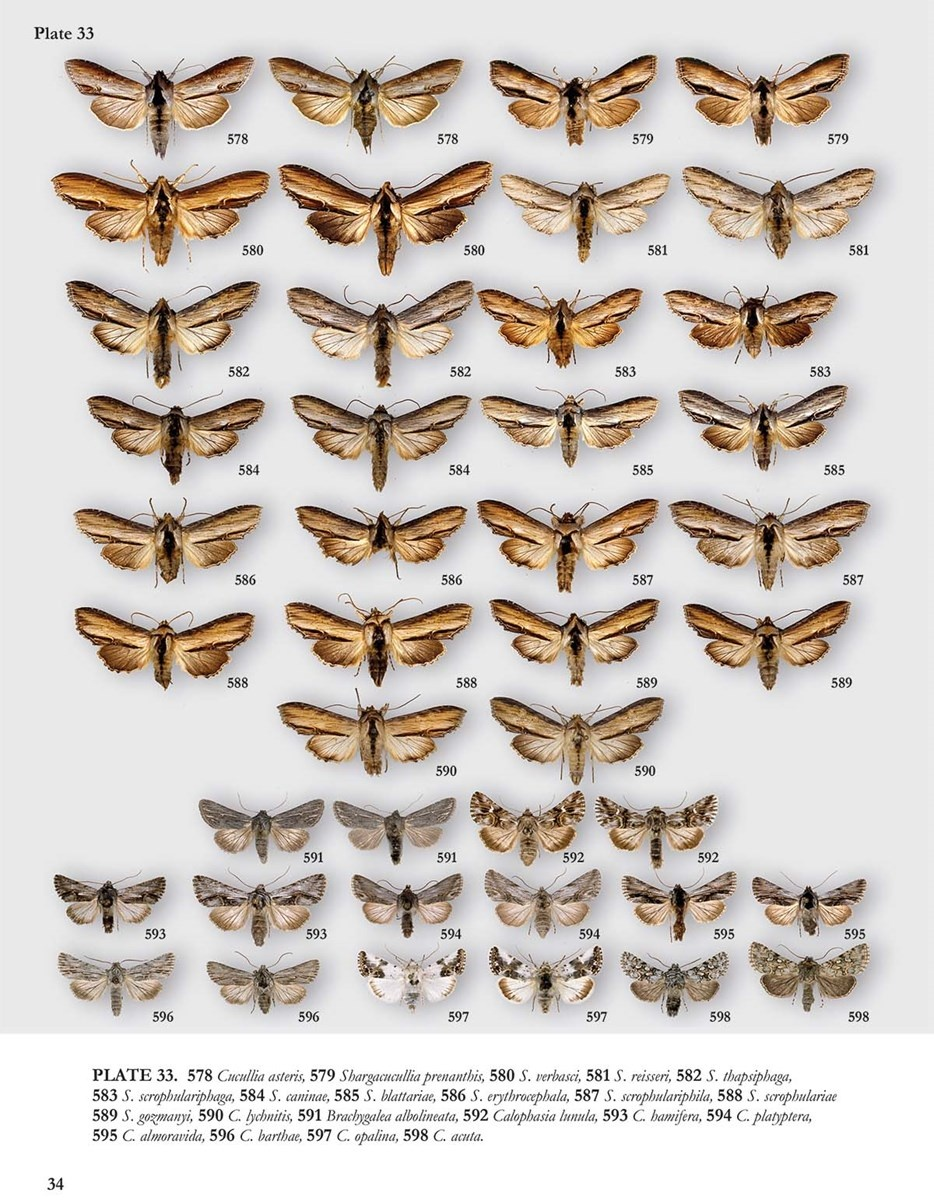Noctuidae: (283, 155, 492, 277), (287, 270, 472, 396), (60, 275, 258, 386), (53, 171, 271, 266), (63, 54, 253, 162), (667, 489, 869, 589), (293, 391, 479, 496), (683, 161, 881, 259), (265, 54, 460, 153), (476, 490, 660, 594), (80, 394, 271, 490), (285, 595, 472, 691), (676, 46, 849, 148), (78, 496, 263, 587), (674, 382, 852, 476), (281, 696, 467, 785), (488, 698, 674, 786), (679, 600, 848, 694), (485, 54, 661, 143), (663, 278, 837, 367), (506, 171, 675, 262), (479, 386, 657, 467), (74, 611, 256, 690), (492, 603, 662, 687), (476, 287, 647, 370), (294, 500, 466, 572), (479, 867, 602, 953), (472, 787, 588, 878), (193, 791, 330, 866), (342, 873, 479, 948), (187, 873, 340, 940), (589, 794, 720, 867), (748, 873, 866, 946), (617, 872, 734, 941), (57, 954, 175, 1022), (746, 946, 866, 1011), (481, 948, 607, 1008), (347, 948, 466, 1011), (206, 950, 317, 1017), (335, 789, 456, 850), (53, 863, 166, 928), (628, 952, 730, 1013)
